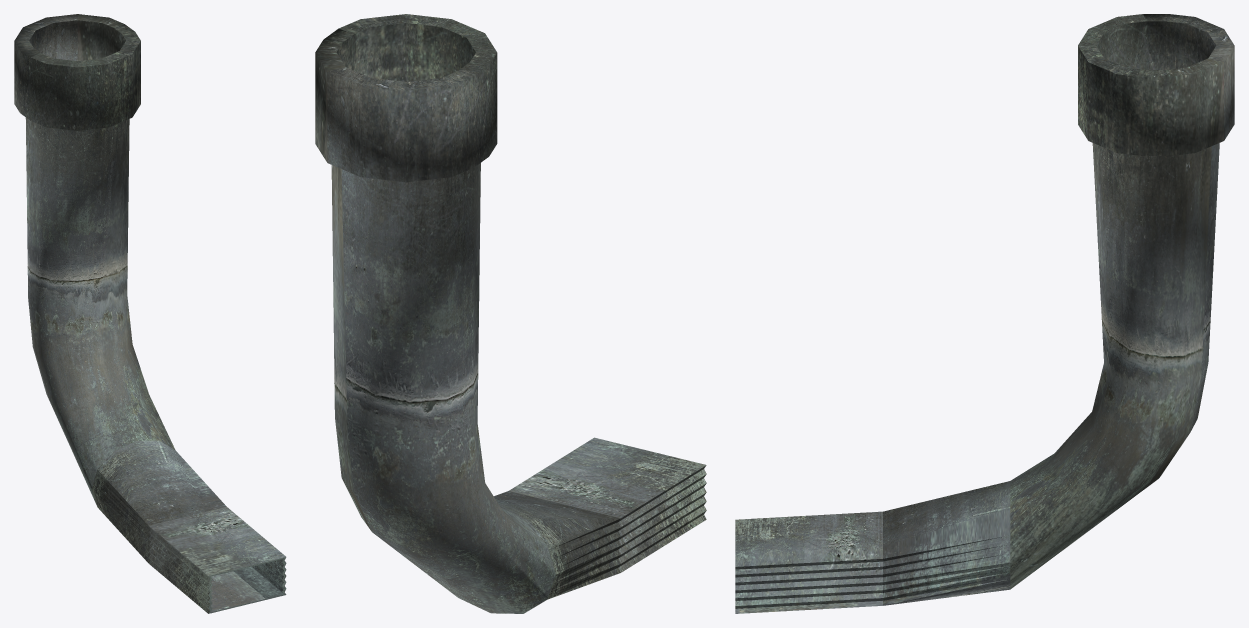
Rendered from DownSpout_Mouth.FBX.
3 views of the same model, side by side, from view 1: azimuth 30°, elevation 25°; view 2: azimuth 150°, elevation 25°; view 3: azimuth 270°, elevation 25° (orthographic). The views are drawn at different scales.
Visible parts, largest first — view 1: Cylinder001; view 2: Cylinder001; view 3: Cylinder001.
Part boxes in pixels (bbox=[...]): Cylinder001: bbox=[14, 14, 286, 613]; Cylinder001: bbox=[315, 14, 706, 613]; Cylinder001: bbox=[735, 14, 1234, 613].
Bounding box in the file's own units: 23.12 × 92.75 × 77.05.
